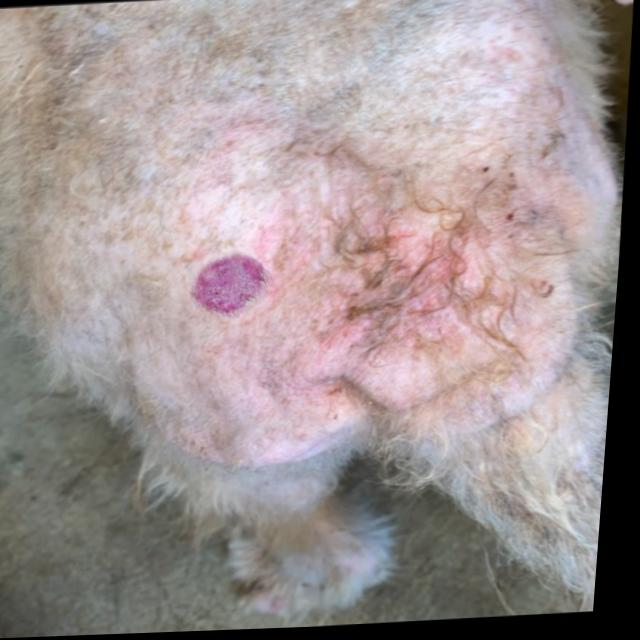ringworm: (193, 248, 271, 324)
